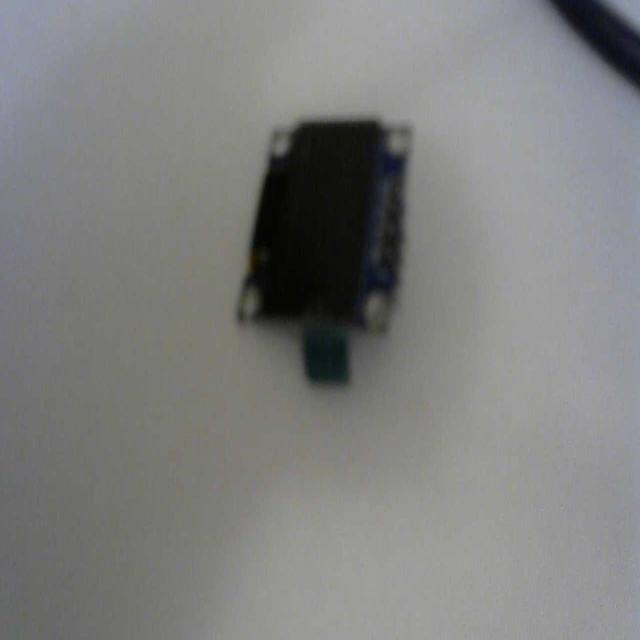oled: (232, 113, 414, 396)
